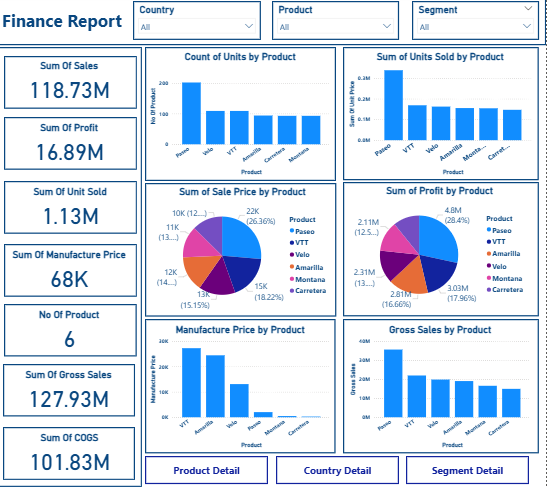

What the dashboard file says about the page in this screenshot:
{"tool":"powerbi","page":{"name":"Finance","canvas":[1337,1200],"ordinal":0},"visuals":[{"type":"shape","box":[0,0,1337,122.5],"z":0},{"type":"slicer","fields":{"Values":["financials.Country"]},"box":[329.3,14.6,312.2,95.1],"z":1000},{"type":"slicer","fields":{"Values":["financials.Product"]},"box":[668.3,14.6,309.8,95.1],"z":2000},{"type":"slicer","fields":{"Values":["financials.Segment"]},"box":[1009.8,14.6,309.8,95.1],"z":3000},{"type":"shape","box":[0,126.8,351.2,1073.2],"z":4000},{"type":"shape","box":[13.7,147.6,324.4,128.7],"z":5000},{"type":"card","title":"Sum Of Sales","fields":{"Values":["Sum(financials.Sales)"]},"box":[29.2,157.9,288.4,106.4],"z":6000},{"type":"shape","box":[13.7,297,324.4,128.7],"z":7000},{"type":"card","title":"Sum Of Profit","fields":{"Values":["Sum(financials.Profit)"]},"box":[29.2,309,288.4,106.4],"z":8000},{"type":"shape","box":[13.7,453.2,324.4,128.7],"z":9000},{"type":"shape","box":[13.7,607.7,324.4,128.7],"z":10000},{"type":"card","title":"Sum Of Unit Sold","fields":{"Values":["Sum(financials.Units Sold)"]},"box":[32.6,465.2,288.4,106.4],"z":11000},{"type":"card","title":"Sum Of Manufacture Price","fields":{"Values":["Sum(financials.Manufacturing Price)"]},"box":[29.2,619.7,288.4,106.4],"z":12000},{"type":"shape","box":[14.6,753.7,323.8,128],"z":13000},{"type":"card","title":"No Of Product","fields":{"Values":["Count(financials.Product)"]},"box":[29.3,764.6,289,106.1],"z":14000},{"type":"shape","box":[12.8,900.6,322.3,128],"z":15000},{"type":"card","title":"Sum Of Gross Sales","fields":{"Values":["Sum(financials.Gross Sales)"]},"box":[27.7,911.3,290.2,106.7],"z":16000},{"type":"shape","box":[12.2,1053.7,322,129.3],"z":17000},{"type":"card","title":"Sum Of COGS","fields":{"Values":["Sum(financials.COGS)"]},"box":[29.3,1065.9,290.2,104.9],"z":18000},{"type":"shape","box":[358.5,126.8,465.9,326.8],"z":19000},{"type":"columnChart","title":"Count of Units  by Product","fields":{"Category":["financials.Product"],"Y":["CountNonNull(financials.Units Sold)"]},"box":[365,137.5,450,307.5],"z":20000},{"type":"shape","box":[842.5,127.5,477.5,325],"z":21000},{"type":"columnChart","fields":{"Category":["financials.Product"],"Y":["Sum(financials.Units Sold)"]},"box":[850,137.5,455,307.5],"z":22000},{"type":"shape","box":[359.3,457.4,466.7,325.9],"z":23000},{"type":"shape","box":[842.6,455.6,477.8,327.8],"z":24000},{"type":"pieChart","fields":{"Category":["financials.Product"],"Y":["Sum(financials.Sale Price)"]},"box":[377.8,464.8,437,313],"z":25000},{"type":"pieChart","fields":{"Category":["financials.Product"],"Y":["Sum(financials.Profit)"]},"box":[859.3,463,437,313],"z":26000},{"type":"shape","box":[840.7,790.7,477.8,327.8],"z":27000},{"type":"shape","box":[359.3,790.7,464.8,327.8],"z":28000},{"type":"columnChart","title":"Manufacture Price  by Product","fields":{"Category":["financials.Product"],"Y":["Sum(financials.Manufacturing Price)"]},"box":[366.7,801.9,450,307.4],"z":29000},{"type":"columnChart","title":"Gross Sales  by Product","fields":{"Category":["financials.Product"],"Y":["Sum(financials.Gross Sales)"]},"box":[853.7,801.9,450,307.4],"z":30000},{"type":"shape","box":[359.3,1124.1,300,68.5],"z":31000},{"type":"shape","box":[677.8,1124.1,300,68.5],"z":32000},{"type":"shape","box":[996.3,1124.1,300,68.5],"z":33000}]}

Visuals, with their boxes in screenshot pixels (x1, y1, x2, y2), scaled from the page's 1337x1200 canvas onto the 547x487 screenshot:
shape: box=[0, 0, 546, 50]
slicer - financials.Country: box=[135, 6, 262, 45]
slicer - financials.Product: box=[273, 6, 400, 45]
slicer - financials.Segment: box=[413, 6, 540, 45]
shape: box=[0, 51, 144, 486]
shape: box=[6, 60, 138, 112]
"Sum Of Sales" card: box=[12, 64, 130, 107]
shape: box=[6, 121, 138, 173]
"Sum Of Profit" card: box=[12, 125, 130, 169]
shape: box=[6, 184, 138, 236]
shape: box=[6, 247, 138, 299]
"Sum Of Unit Sold" card: box=[13, 189, 131, 232]
"Sum Of Manufacture Price" card: box=[12, 251, 130, 295]
shape: box=[6, 306, 138, 358]
"No Of Product" card: box=[12, 310, 130, 353]
shape: box=[5, 365, 137, 417]
"Sum Of Gross Sales" card: box=[11, 370, 130, 413]
shape: box=[5, 428, 137, 480]
"Sum Of COGS" card: box=[12, 433, 131, 475]
shape: box=[147, 51, 337, 184]
"Count of Units  by Product" columnChart: box=[149, 56, 333, 181]
shape: box=[345, 52, 540, 184]
columnChart - financials.Product x Sum(financials.Units Sold): box=[348, 56, 534, 181]
shape: box=[147, 186, 338, 318]
shape: box=[345, 185, 540, 318]
pieChart - financials.Product x Sum(financials.Sale Price): box=[155, 189, 333, 316]
pieChart - financials.Product x Sum(financials.Profit): box=[352, 188, 530, 315]
shape: box=[344, 321, 539, 454]
shape: box=[147, 321, 337, 454]
"Manufacture Price  by Product" columnChart: box=[150, 325, 334, 450]
"Gross Sales  by Product" columnChart: box=[349, 325, 533, 450]
shape: box=[147, 456, 270, 484]
shape: box=[277, 456, 400, 484]
shape: box=[408, 456, 530, 484]
